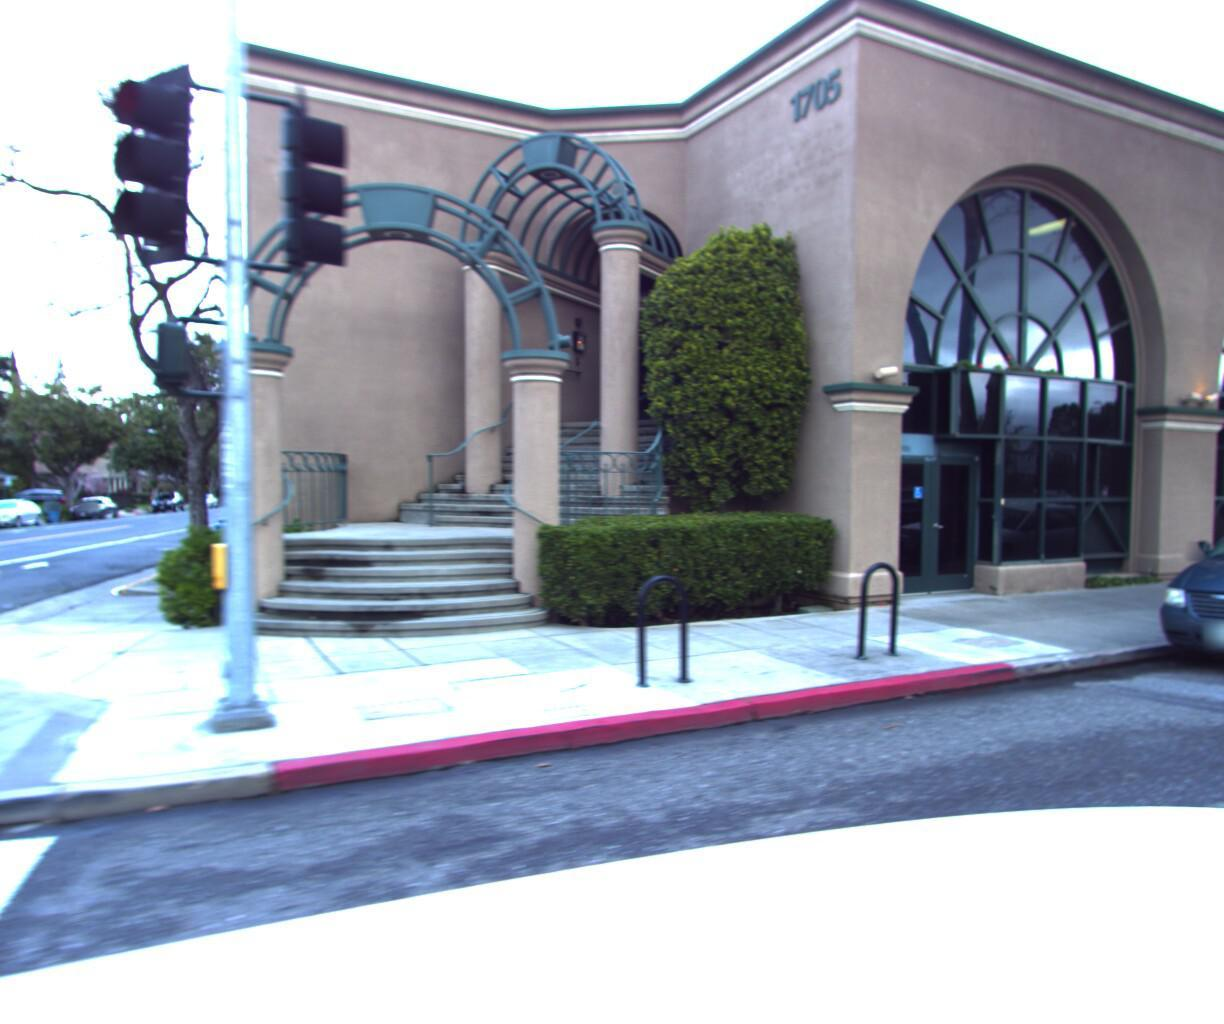car: (1148, 480, 1224, 696), (0, 496, 44, 529), (63, 498, 120, 522), (147, 495, 186, 513)
